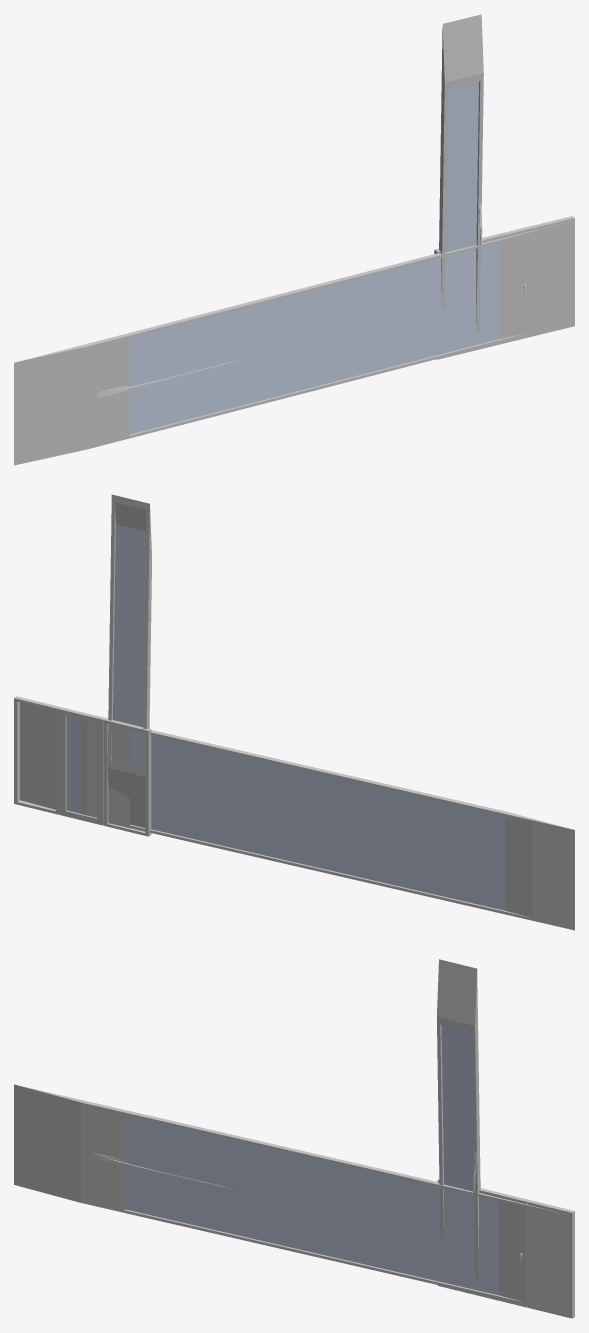
File: window.glb
The picture shows the model from 3 angles, top to bottom: view 1: azimuth 30°, elevation 25°; view 2: azimuth 150°, elevation 25°; view 3: azimuth 330°, elevation 25°; orthographic projection. The views are drawn at different scales.
Parts seen in each view (by area): view 1: WindowWing.002, WindowWing, WindowFrame; view 2: WindowWing.002, WindowWing, WindowFrame, WindowWing.001; view 3: WindowWing.002, WindowWing, WindowFrame.
Boxes of the visible parts, x1=… form: WindowWing.002: x1=14, y1=221, x2=571, y2=465; WindowWing: x1=439, y1=14, x2=483, y2=333; WindowFrame: x1=434, y1=216, x2=574, y2=359; WindowWing.002: x1=20, y1=702, x2=574, y2=930; WindowWing: x1=107, y1=494, x2=151, y2=827; WindowFrame: x1=14, y1=696, x2=151, y2=836; WindowWing.001: x1=62, y1=712, x2=100, y2=821; WindowWing.002: x1=14, y1=1084, x2=568, y2=1314; WindowWing: x1=437, y1=959, x2=480, y2=1280; WindowFrame: x1=437, y1=1179, x2=574, y2=1318.
Size of the model in its own units: 9.85 by 5.6 by 0.3172.
